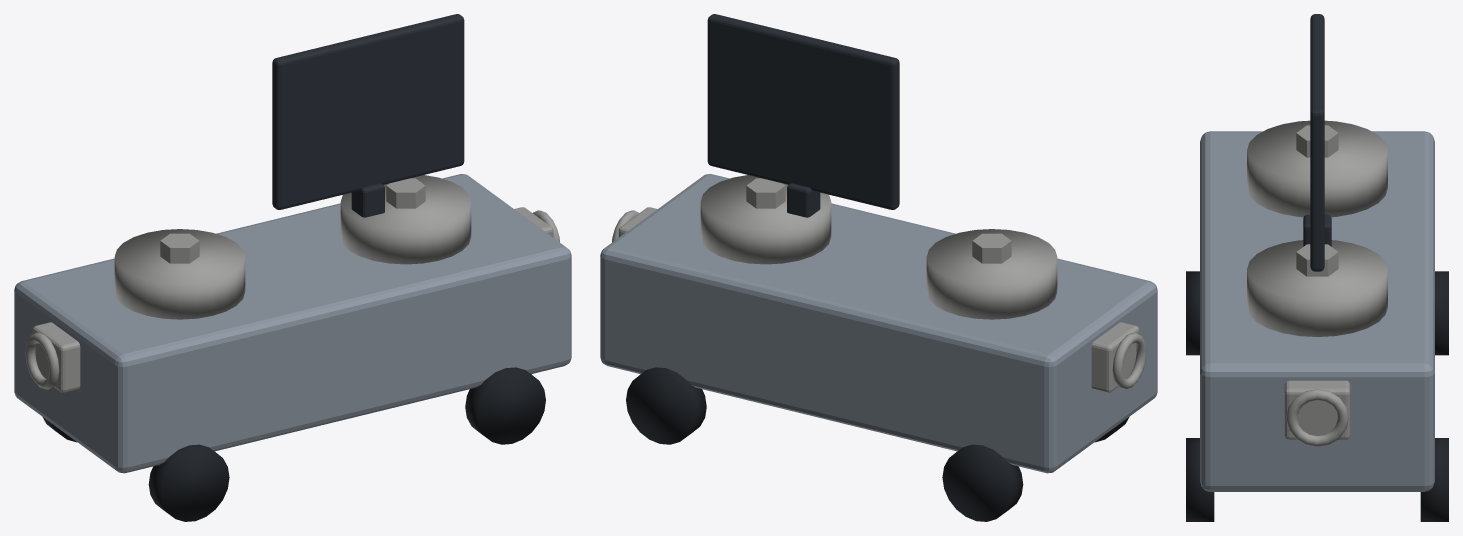
The model's file is trolley.glb.
The picture shows the model from 3 angles, left to right: view 1: azimuth 30°, elevation 25°; view 2: azimuth 150°, elevation 25°; view 3: azimuth 270°, elevation 25°; orthographic projection. The views are drawn at different scales.
Visible parts, largest first — view 1: body, flag, top_plate, top_plate.001, wheel_fl, wheel_rl, hook_boss_rear, hook_rear, top_plate_nut, top_plate_nut.001, flag_post; view 2: body, flag, top_plate, top_plate.001, wheel_fr, wheel_rr, hook_boss_rear, hook_rear, top_plate_nut, top_plate_nut.001, flag_post; view 3: body, top_plate.001, top_plate, flag, hook_boss_front, hook_front, wheel_fl, wheel_fr, wheel_rl, wheel_rr, top_plate_nut.001, top_plate_nut (+1 smaller).
Part boxes in pixels (<box>): body: <box>14,174,571,473</box>; flag: <box>272,14,464,209</box>; top_plate: <box>114,229,245,319</box>; top_plate.001: <box>340,175,471,264</box>; wheel_fl: <box>465,367,545,444</box>; wheel_rl: <box>148,444,229,521</box>; hook_boss_rear: <box>32,322,80,392</box>; hook_rear: <box>25,332,59,389</box>; top_plate_nut: <box>160,233,199,263</box>; top_plate_nut.001: <box>386,178,425,208</box>; flag_post: <box>351,183,384,217</box>; body: <box>600,174,1157,473</box>; flag: <box>707,14,899,209</box>; top_plate: <box>926,229,1057,319</box>; top_plate.001: <box>700,175,831,264</box>; wheel_fr: <box>626,367,706,444</box>; wheel_rr: <box>942,444,1023,521</box>; hook_boss_rear: <box>1091,322,1139,392</box>; hook_rear: <box>1112,332,1146,389</box>; top_plate_nut: <box>972,233,1011,263</box>; top_plate_nut.001: <box>746,178,785,208</box>; flag_post: <box>787,183,820,217</box>; body: <box>1200,131,1434,491</box>; top_plate.001: <box>1247,240,1387,336</box>; top_plate: <box>1247,120,1387,217</box>; flag: <box>1310,14,1324,271</box>; hook_boss_front: <box>1284,380,1350,439</box>; hook_front: <box>1286,389,1348,446</box>; wheel_fl: <box>1186,438,1214,521</box>; wheel_fr: <box>1420,438,1448,521</box>; wheel_rl: <box>1186,271,1199,355</box>; wheel_rr: <box>1435,271,1448,355</box>; top_plate_nut.001: <box>1296,244,1338,276</box>; top_plate_nut: <box>1296,125,1338,157</box>.
Bounding box in the file's own units: 0.1353 × 0.097 × 0.056.
